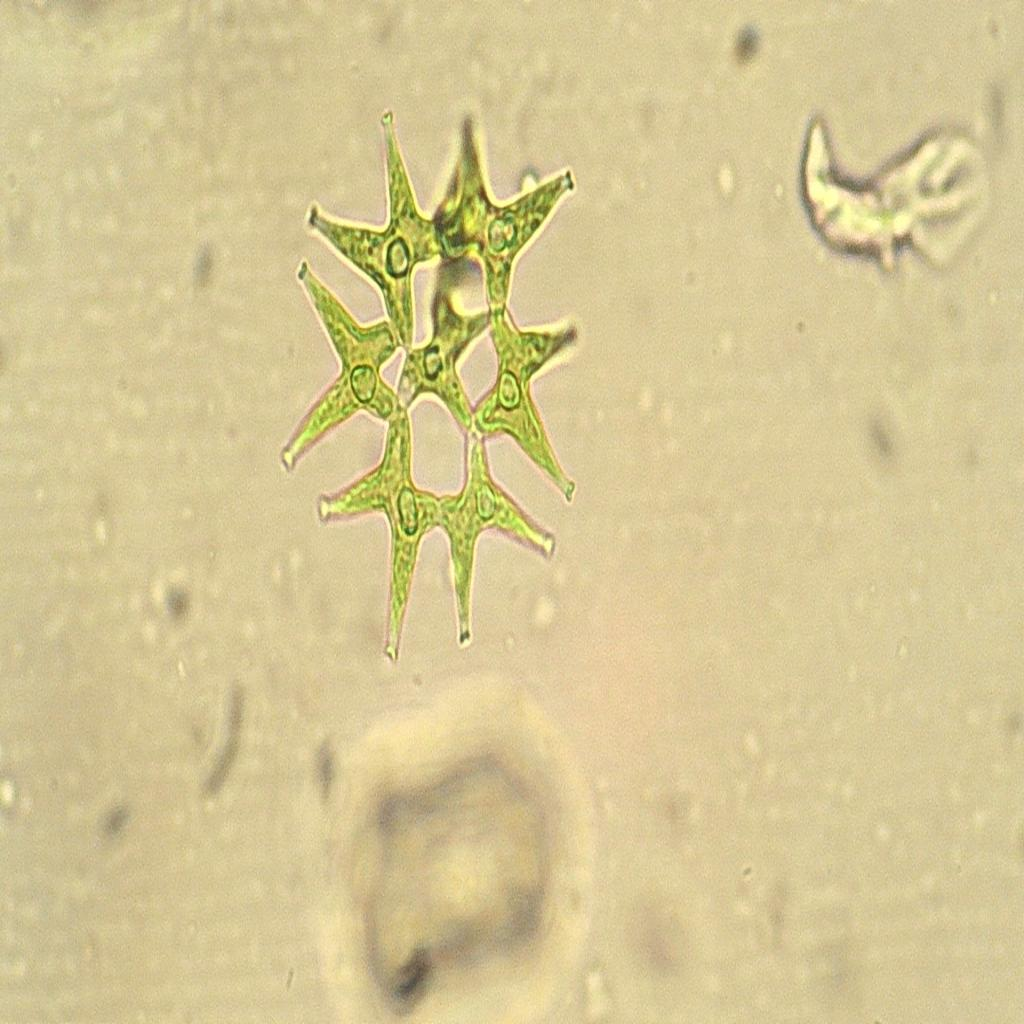Pediastrum_1T: (264, 66, 602, 702)
